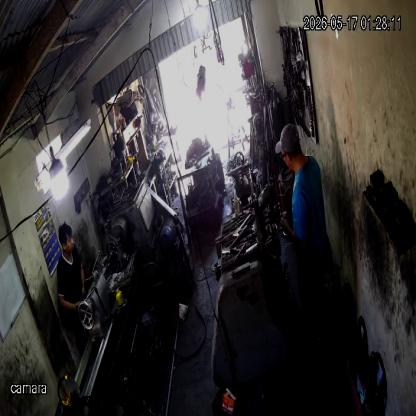lentes: (280, 150, 292, 160)
